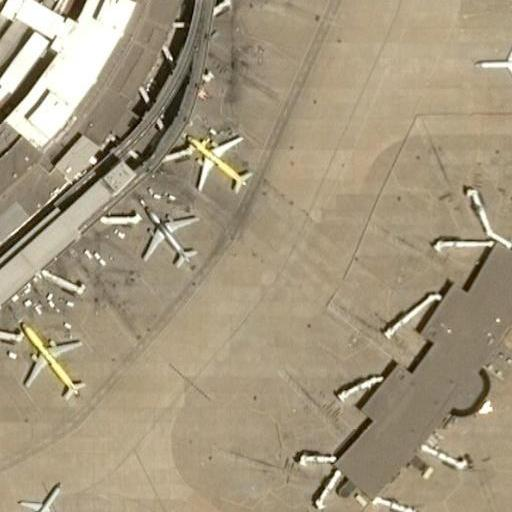Aircraft: (13, 317, 90, 400), (181, 126, 258, 198), (139, 198, 198, 271), (14, 475, 59, 512)
